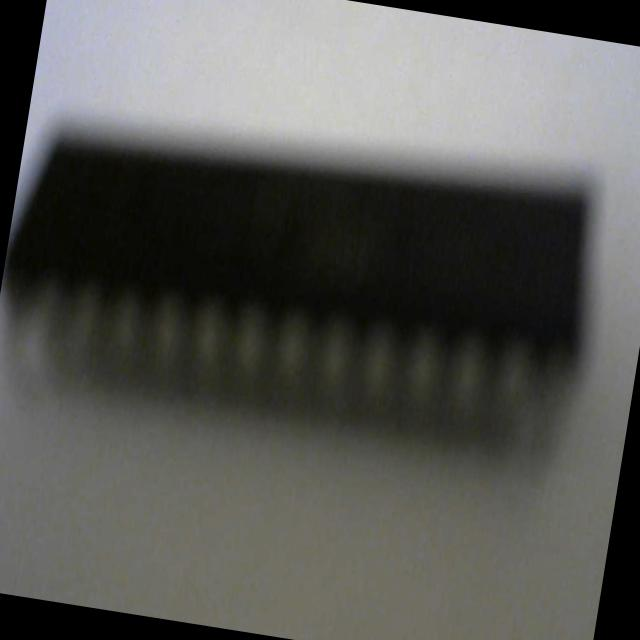atmega: (0, 86, 618, 492)
